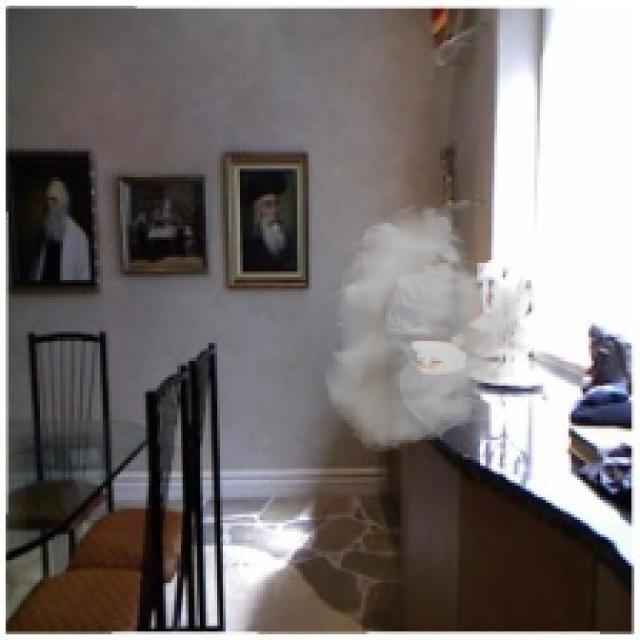Smoke: (323, 203, 534, 454)
